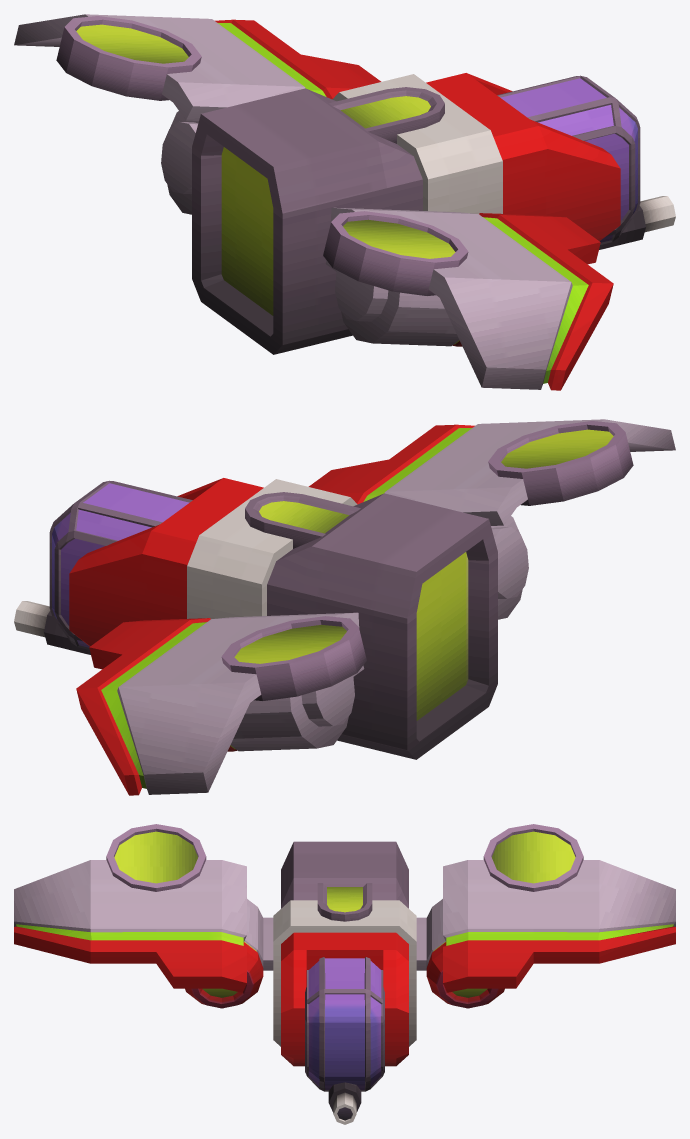
File: SM_Hauler_Level_1.fbx
3 views of the same model, one above another, from view 1: azimuth 30°, elevation 25°; view 2: azimuth 150°, elevation 25°; view 3: azimuth 270°, elevation 25° (orthographic). The views are drawn at different scales.
Visible parts, largest first — view 1: Hauler_Level_1; view 2: Hauler_Level_1; view 3: Hauler_Level_1.
Part boxes in pixels (left/top/right/bottom): Hauler_Level_1: left=14, top=14, right=675, bottom=390; Hauler_Level_1: left=14, top=419, right=675, bottom=795; Hauler_Level_1: left=14, top=824, right=675, bottom=1124.
Bounding box in the file's own units: 441 × 187 × 763.
Materials: 1 (1 with a texture image).
